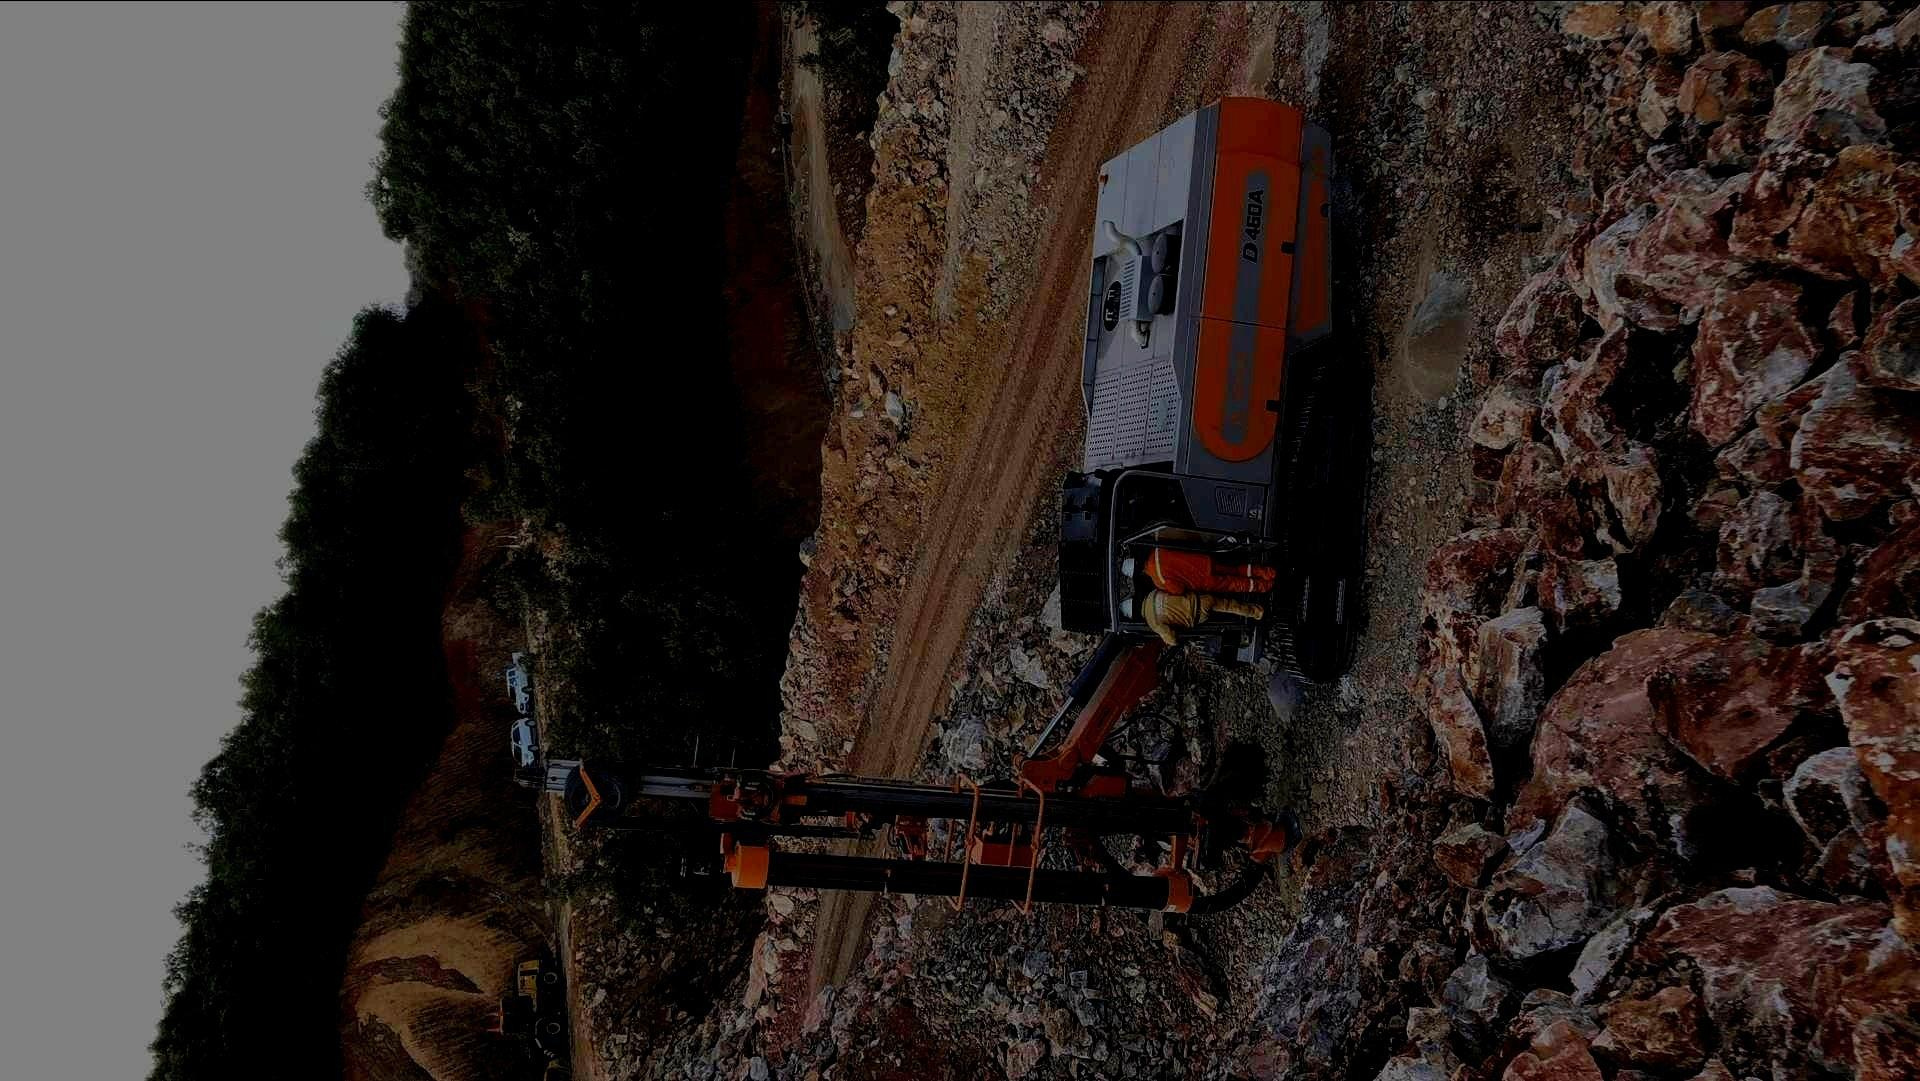helmet: (1120, 596, 1142, 621), (1122, 556, 1146, 577)
